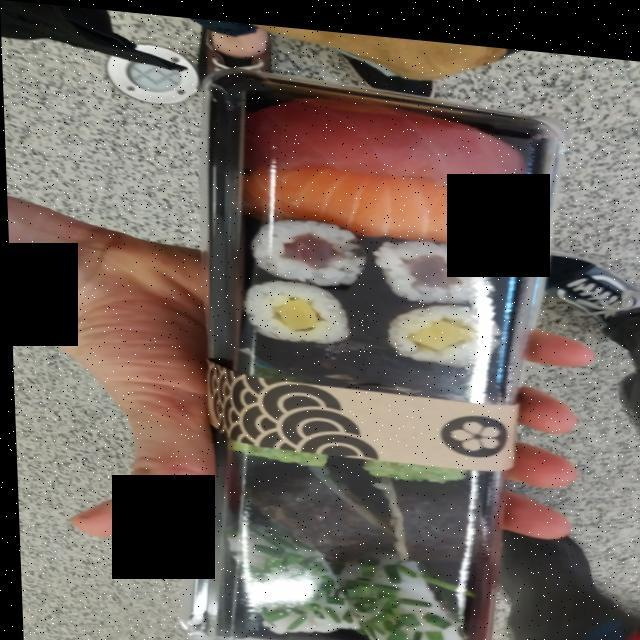sushi: (222, 79, 554, 631)
